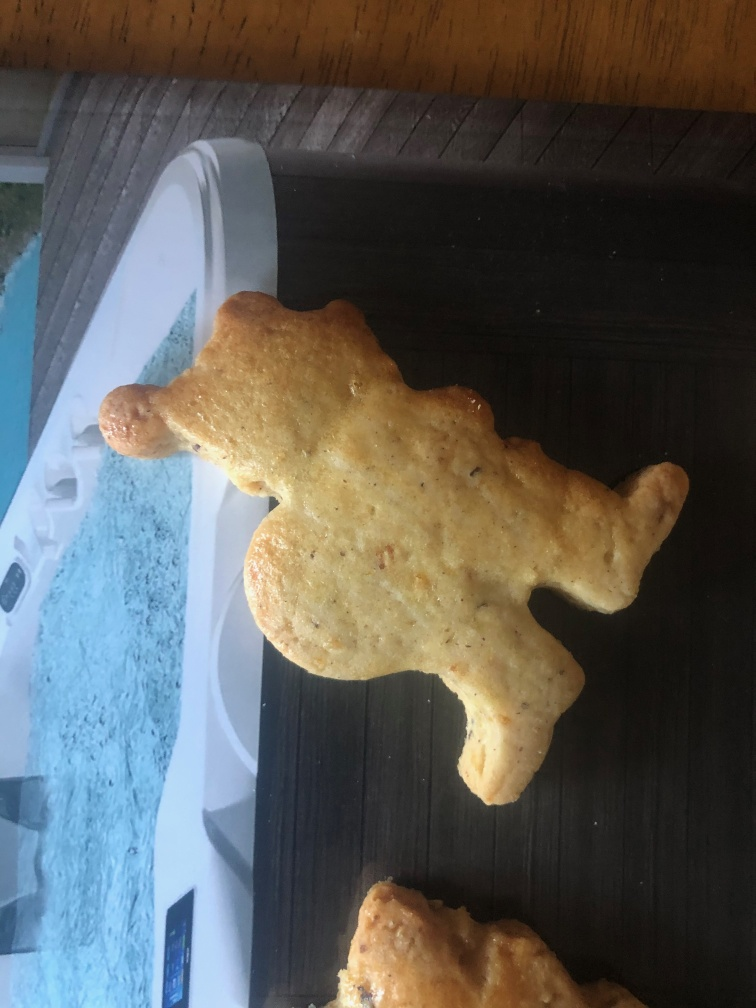santa claus: (82, 279, 697, 813)
